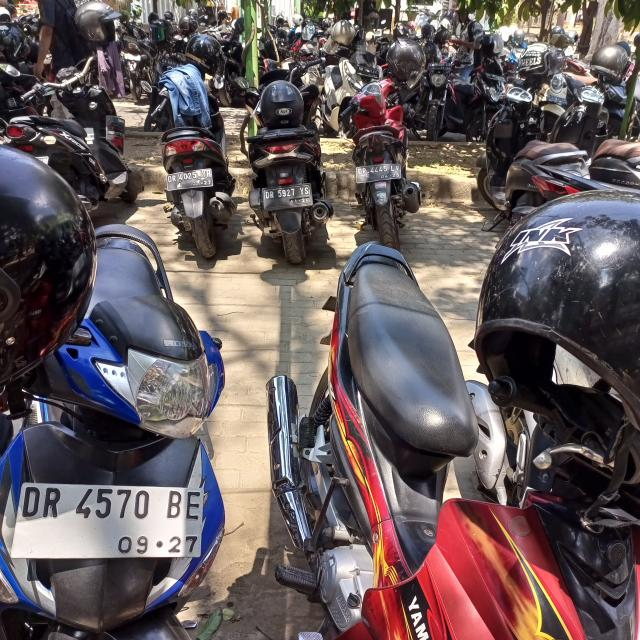plate: (14, 477, 207, 563), (263, 183, 313, 212), (166, 168, 214, 191), (357, 163, 402, 183)
